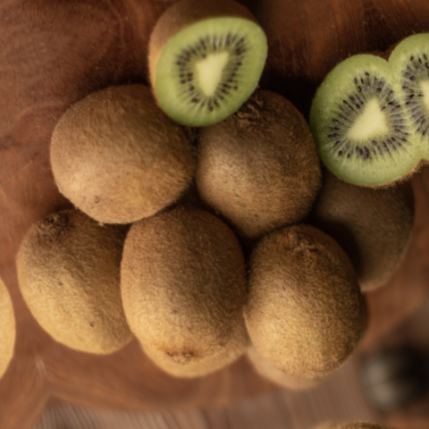kiwi: (19, 64, 231, 248), (94, 190, 289, 386), (168, 66, 356, 256), (219, 211, 399, 404), (0, 178, 162, 377)
